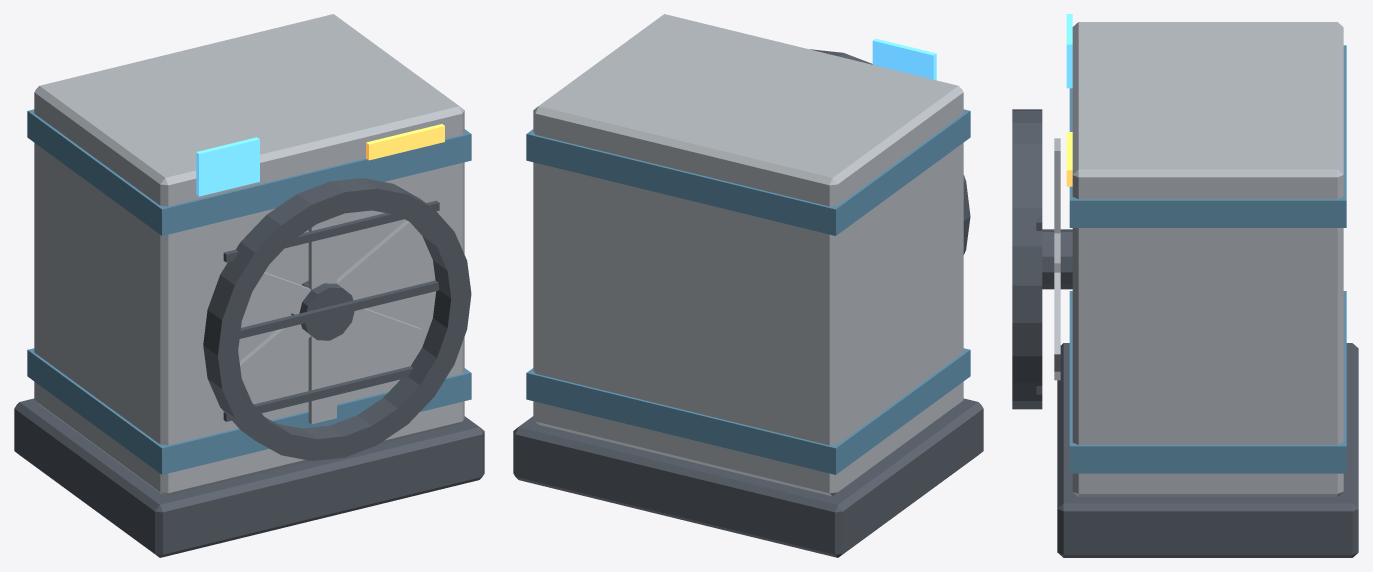
Rendered from spaceship-deck-kit-turbine-unit-7b205337__12582.glb.
The picture shows the model from 3 angles, left to right: view 1: azimuth 30°, elevation 25°; view 2: azimuth 150°, elevation 25°; view 3: azimuth 270°, elevation 25°; orthographic projection. The views are drawn at different scales.
Parts seen in each view (by area): view 1: turbine-unit, fan/steel, fan/dark; view 2: turbine-unit; view 3: turbine-unit, fan/steel, fan/dark.
Part boxes in pixels (x1=…): turbine-unit: x1=14, y1=14, x2=484, y2=557; fan/steel: x1=239, y1=216, x2=422, y2=424; fan/dark: x1=291, y1=280, x2=354, y2=340; turbine-unit: x1=513, y1=14, x2=983, y2=557; turbine-unit: x1=1012, y1=14, x2=1358, y2=557; fan/steel: x1=1054, y1=138, x2=1060, y2=380; fan/dark: x1=1042, y1=229, x2=1072, y2=289.
Size of the model in its own units: 1.3 by 1.48 by 1.15.
